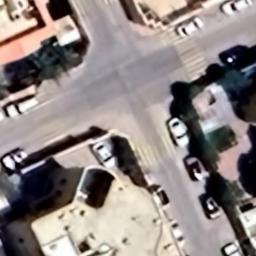sedan: (164, 115, 192, 150), (90, 140, 118, 171), (198, 192, 224, 222), (183, 154, 208, 184), (217, 0, 256, 16), (174, 18, 204, 38), (220, 239, 243, 256)
unknown: (1, 149, 31, 174)
van: (2, 96, 40, 120)
